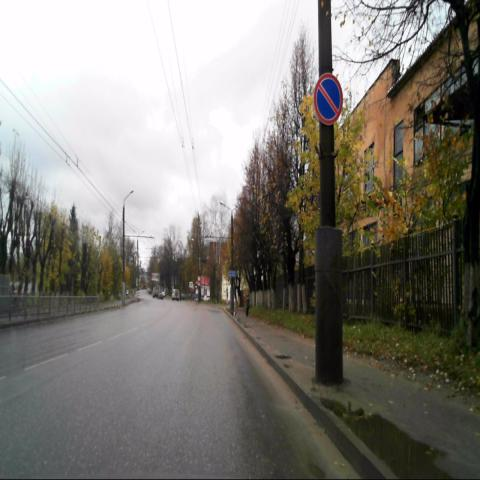3_28: (312, 72, 344, 126)
